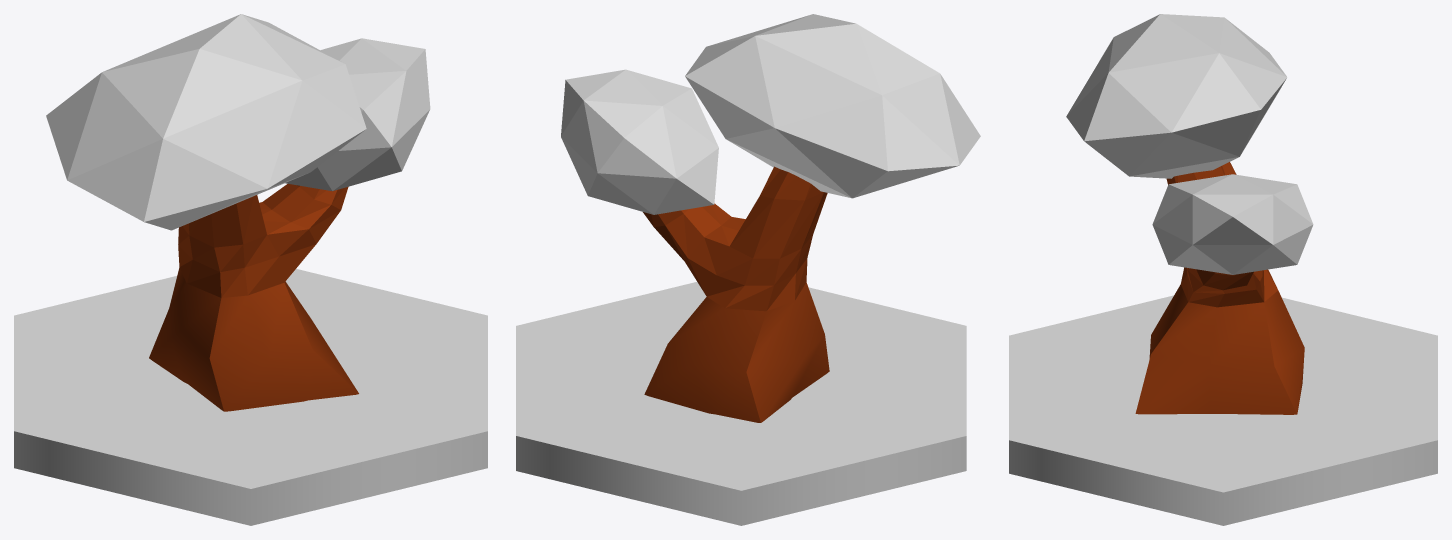
File: test_tree.FBX
3 renders of one model, left to right at view 1: azimuth 30°, elevation 25°; view 2: azimuth 150°, elevation 25°; view 3: azimuth 270°, elevation 25°, orthographic. The views are drawn at different scales.
Parts seen in each view (by area): view 1: Cylinder001, Hedra001, Box001, Hedra002; view 2: Cylinder001, Hedra001, Box001, Hedra002; view 3: Cylinder001, Hedra001, Box001, Hedra002.
Part boxes in pixels (<box>): Cylinder001: <box>14,269,487,525</box>; Hedra001: <box>46,14,366,230</box>; Box001: <box>149,184,358,411</box>; Hedra002: <box>285,38,430,191</box>; Cylinder001: <box>516,282,966,525</box>; Hedra001: <box>685,14,980,198</box>; Box001: <box>643,166,829,422</box>; Hedra002: <box>561,69,718,214</box>; Cylinder001: <box>1009,295,1437,525</box>; Hedra001: <box>1066,14,1287,178</box>; Box001: <box>1135,162,1304,414</box>; Hedra002: <box>1152,174,1313,274</box>.
Bounding box in the file's own units: 26.71 × 21.98 × 23.14.
